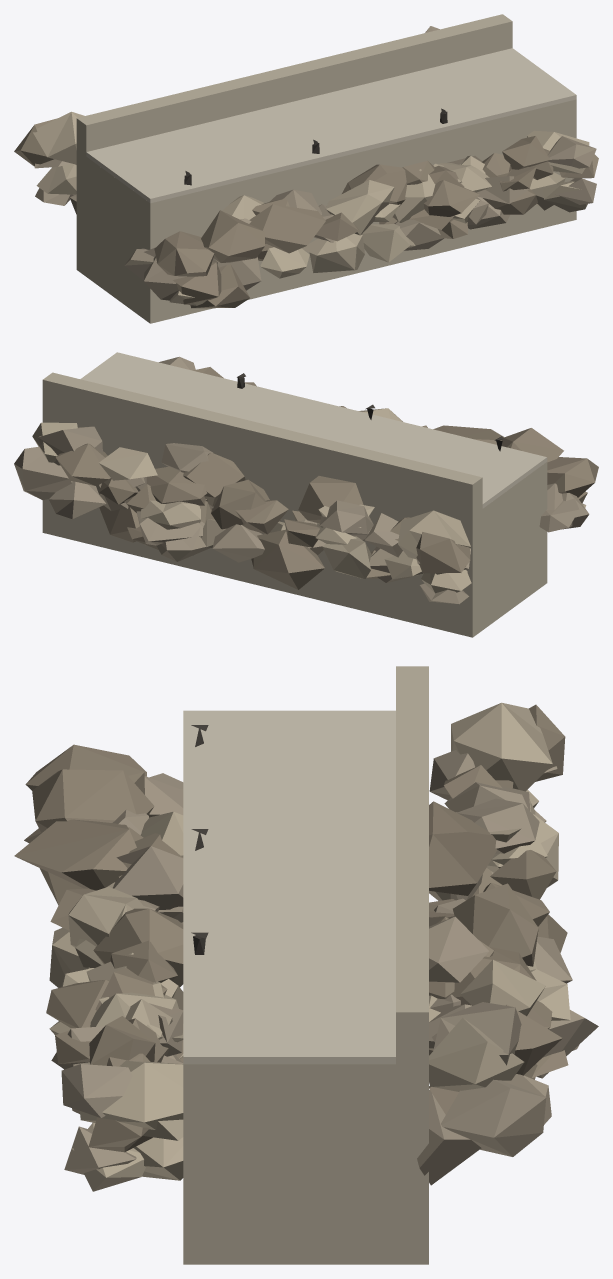
The model's file is mendirek-duz-hafif.glb.
The picture shows the model from 3 angles, top to bottom: view 1: azimuth 30°, elevation 25°; view 2: azimuth 150°, elevation 25°; view 3: azimuth 270°, elevation 25°; orthographic projection. The views are drawn at different scales.
Parts seen in each view (by area): view 1: beton2, beton, kaya3, kaya2, kaya; view 2: beton2, kaya3, beton, kaya, kaya2; view 3: beton, beton2, kaya3, kaya, kaya2.
Part boxes in pixels (x1,y1,x2,y2): beton2: (76, 14, 576, 323); beton: (86, 48, 576, 203); kaya3: (14, 118, 598, 308); kaya2: (33, 111, 589, 305); kaya: (34, 26, 596, 300); beton2: (42, 372, 547, 637); kaya3: (56, 367, 598, 589); beton: (80, 352, 547, 508); kaya: (14, 356, 589, 604); kaya2: (32, 408, 586, 593); beton: (183, 710, 395, 1064); beton2: (183, 666, 428, 1264); kaya3: (14, 704, 568, 1152); kaya: (51, 750, 598, 1185); kaya2: (49, 702, 570, 1191).
Size of the model in its own units: 21.68 by 6.8 by 14.29.
